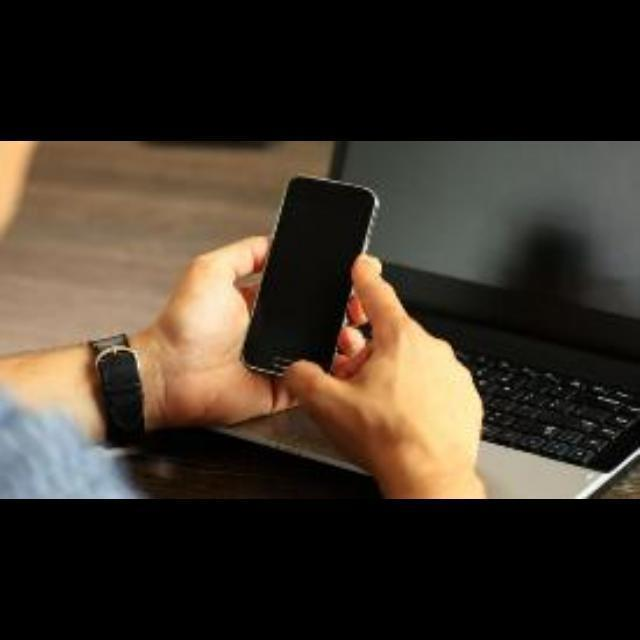phone: (229, 166, 400, 416)
